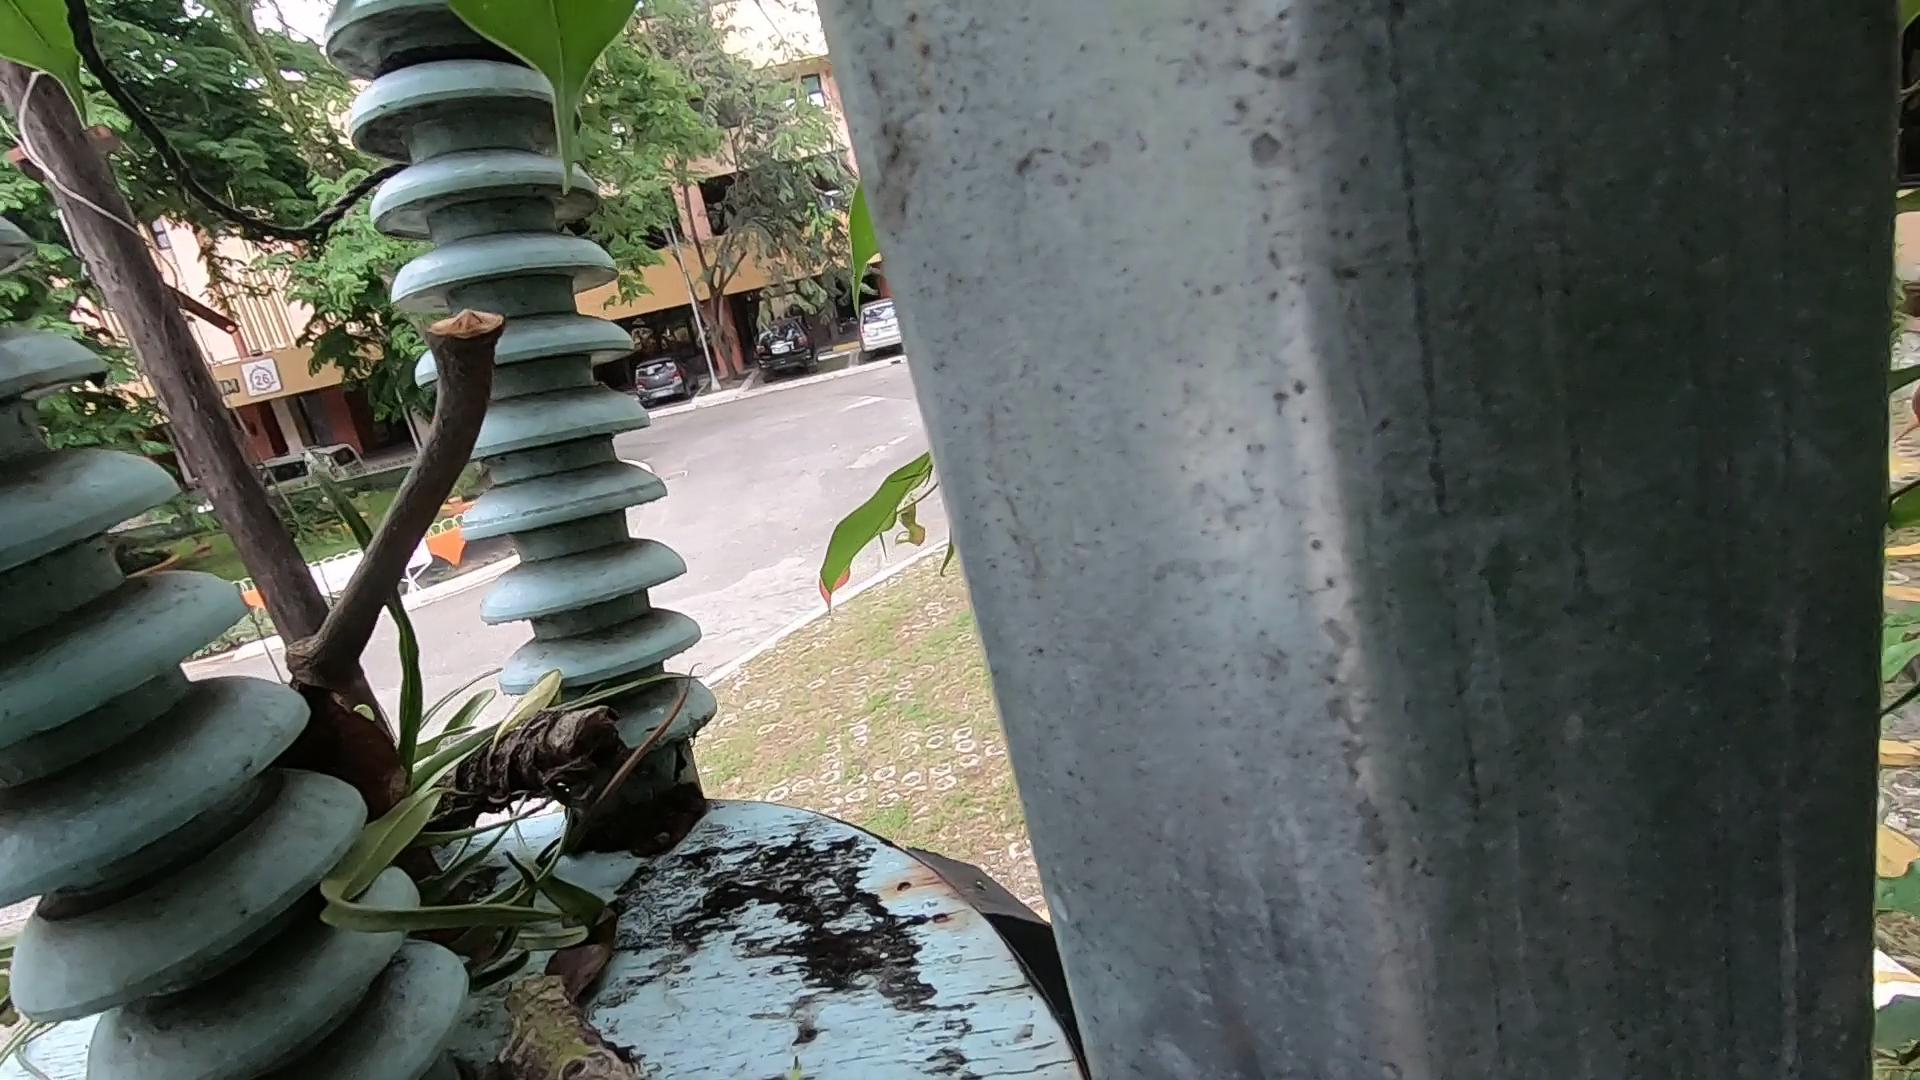branch with leaves: (356, 682, 699, 1067)
tree branch: (316, 255, 514, 698)
